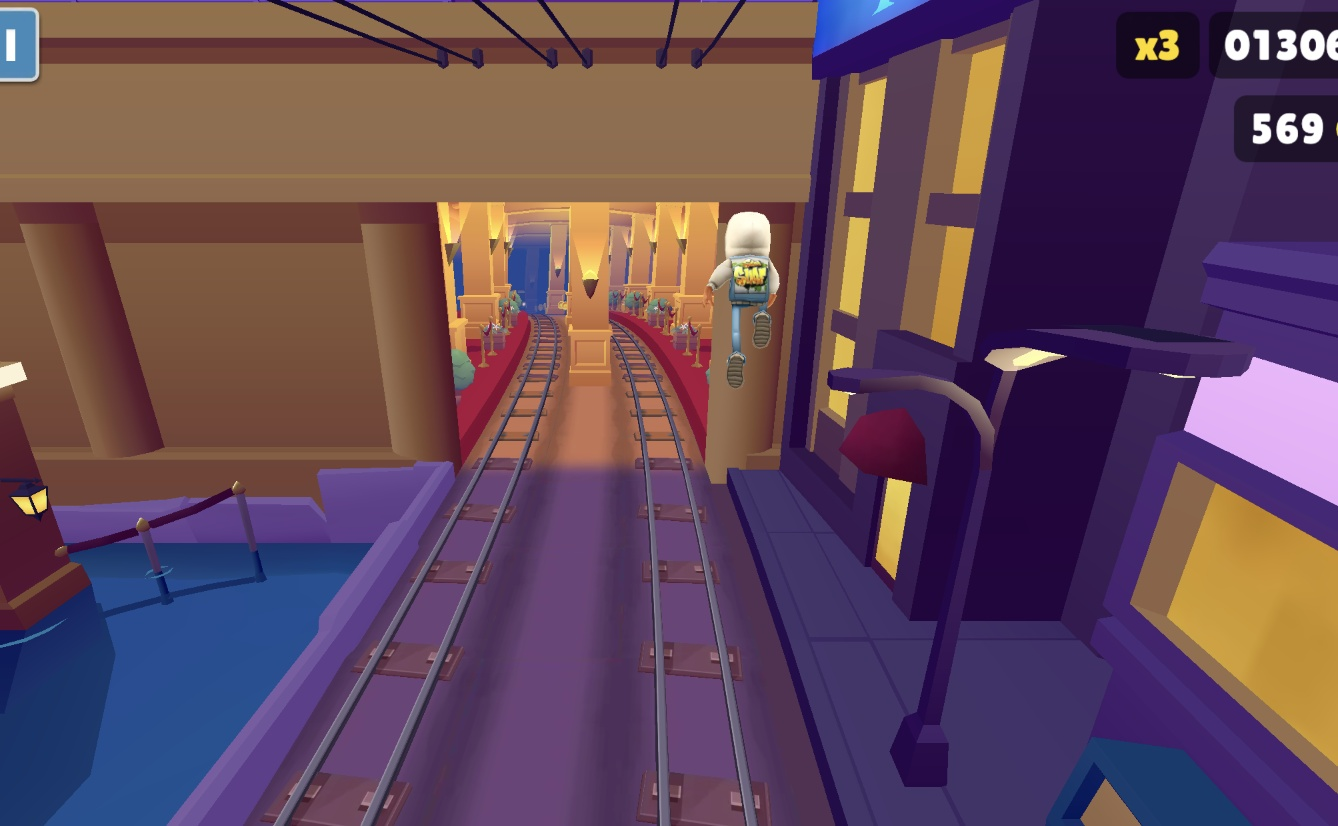pillar: (562, 205, 612, 374)
